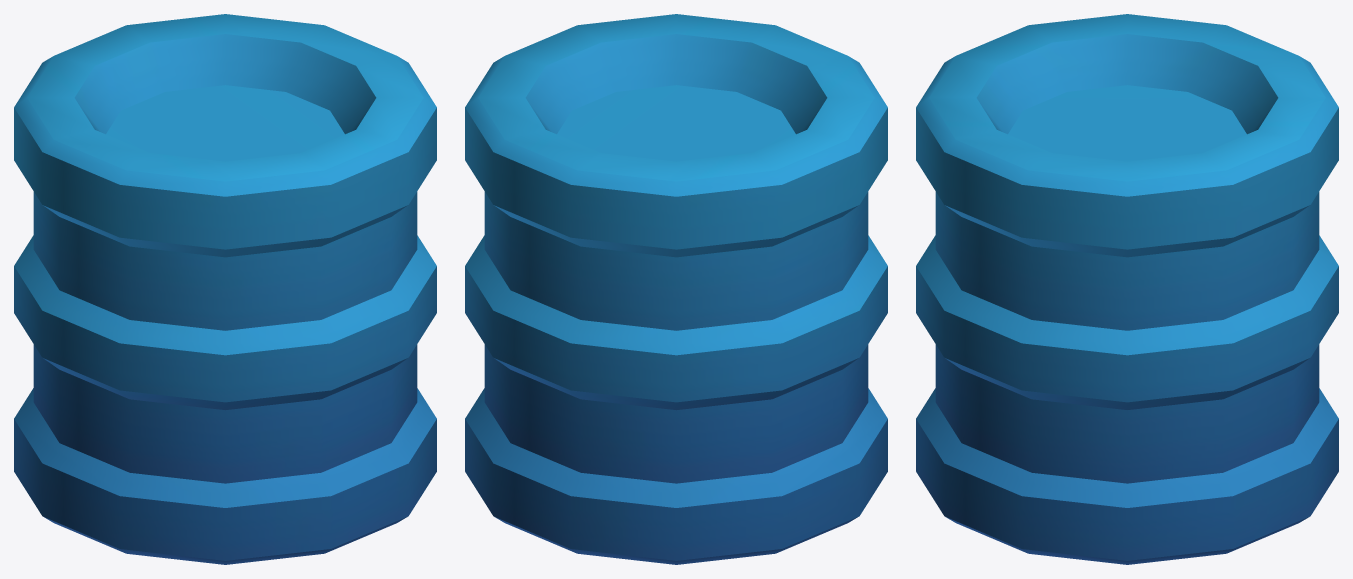
The model's file is barrel-c.glb.
3 renders of one model, left to right at view 1: azimuth 30°, elevation 25°; view 2: azimuth 150°, elevation 25°; view 3: azimuth 270°, elevation 25°, orthographic.
Parts seen in each view (by area): view 1: Barrel_C; view 2: Barrel_C; view 3: Barrel_C.
Part boxes in pixels (bbox=[...]): Barrel_C: bbox=[14, 14, 436, 564]; Barrel_C: bbox=[465, 14, 887, 564]; Barrel_C: bbox=[916, 14, 1338, 564].
Bounding box in the file's own units: 1 × 1 × 1.
Materials: 1 (1 with a texture image).
